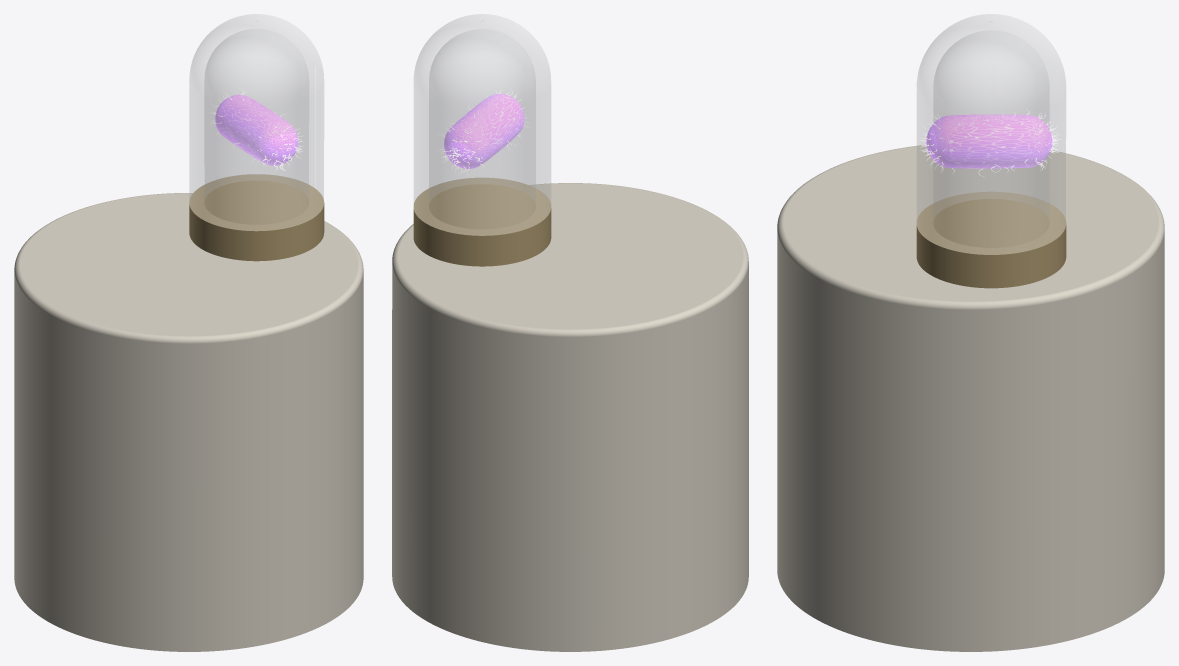
File: bacteria_small_03.glb
3 views of the same model, side by side, from view 1: azimuth 30°, elevation 25°; view 2: azimuth 150°, elevation 25°; view 3: azimuth 270°, elevation 25° (orthographic). The views are drawn at different scales.
Parts seen in each view (by area): view 1: PEANA_Vitrina_4, VITRINA_Campana_4, VITRINA_Base_4, Bacteria_Capsula_Mesh_12; view 2: PEANA_Vitrina_4, VITRINA_Campana_4, VITRINA_Base_4, Bacteria_Capsula_Mesh_12; view 3: PEANA_Vitrina_4, VITRINA_Campana_4, VITRINA_Base_4, Bacteria_Capsula_Mesh_12, Bacteria_Pili_Mesh_12.
Boxes of the visible parts, left/top/right/bottom form: PEANA_Vitrina_4: left=14, top=193, right=363, bottom=651; VITRINA_Campana_4: left=189, top=14, right=323, bottom=230; VITRINA_Base_4: left=189, top=174, right=324, bottom=261; Bacteria_Capsula_Mesh_12: left=215, top=94, right=298, bottom=165; PEANA_Vitrina_4: left=392, top=183, right=748, bottom=651; VITRINA_Campana_4: left=414, top=14, right=550, bottom=235; VITRINA_Base_4: left=413, top=177, right=551, bottom=266; Bacteria_Capsula_Mesh_12: left=444, top=94, right=524, bottom=168; PEANA_Vitrina_4: left=777, top=145, right=1164, bottom=651; VITRINA_Campana_4: left=917, top=14, right=1065, bottom=254; VITRINA_Base_4: left=916, top=191, right=1066, bottom=288; Bacteria_Capsula_Mesh_12: left=926, top=114, right=1052, bottom=168; Bacteria_Pili_Mesh_12: left=919, top=110, right=1061, bottom=175.
Bounding box in the file's own units: 0.5949 × 1 × 0.5949.
5 materials, 1 textured.
